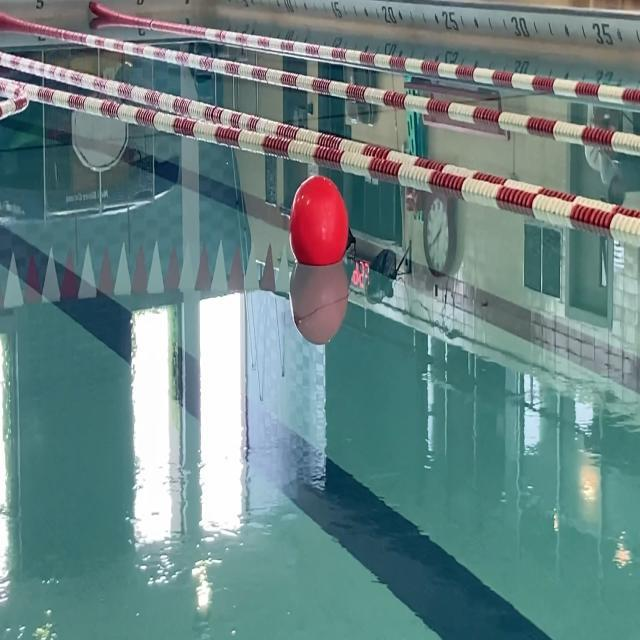buoy: (290, 174, 356, 268)
